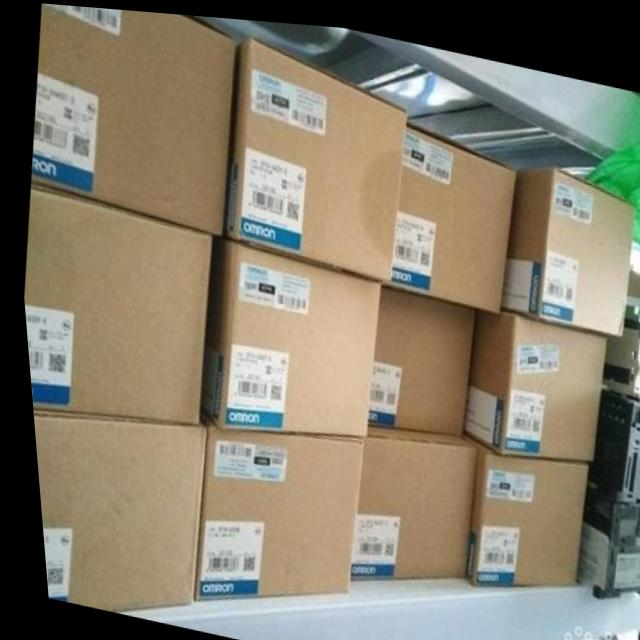box: (28, 3, 236, 231), (19, 186, 209, 422), (222, 32, 405, 276), (195, 233, 375, 431), (27, 415, 200, 609), (184, 419, 357, 599), (379, 115, 513, 305), (497, 158, 631, 328), (457, 302, 603, 454), (342, 421, 471, 575), (458, 439, 581, 579), (360, 281, 471, 429)
